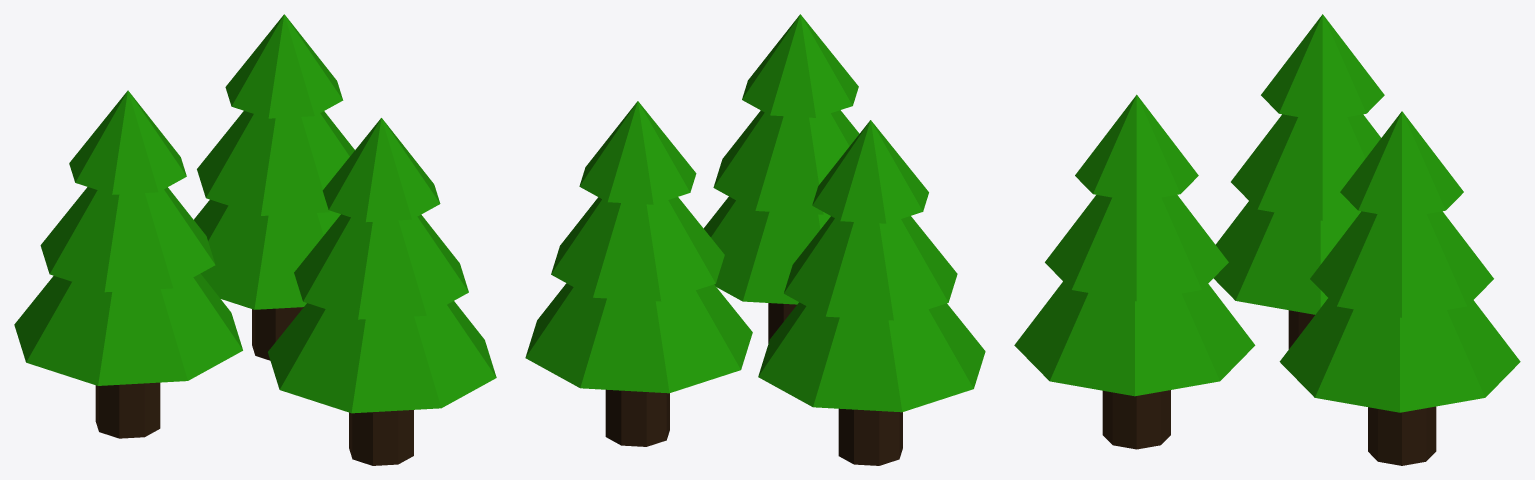
The model's file is agriculture_forestry_fishing_and_hunting.gltf.
3 renders of one model, left to right at view 1: azimuth 30°, elevation 25°; view 2: azimuth 150°, elevation 25°; view 3: azimuth 270°, elevation 25°, orthographic. The views are drawn at different scales.
Parts seen in each view (by area): view 1: Agriculture, Forestry, Fishing, and Hunting; view 2: Agriculture, Forestry, Fishing, and Hunting; view 3: Agriculture, Forestry, Fishing, and Hunting.
Part boxes in pixels (left/top/right/bottom): Agriculture, Forestry, Fishing, and Hunting: left=14, top=14, right=496, bottom=465; Agriculture, Forestry, Fishing, and Hunting: left=525, top=14, right=985, bottom=465; Agriculture, Forestry, Fishing, and Hunting: left=1014, top=14, right=1520, bottom=465.
Bounding box in the file's own units: 1.54 × 1.23 × 1.66.
Materials: 1 (1 with a texture image).
